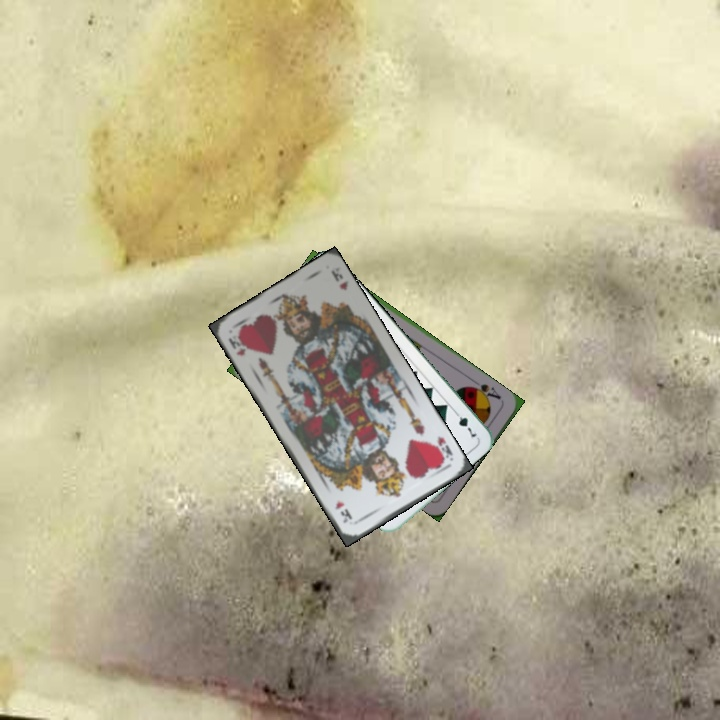G7: (449, 406, 479, 441)
HK: (429, 432, 455, 465), (224, 328, 250, 359)
SA: (466, 376, 503, 404)
